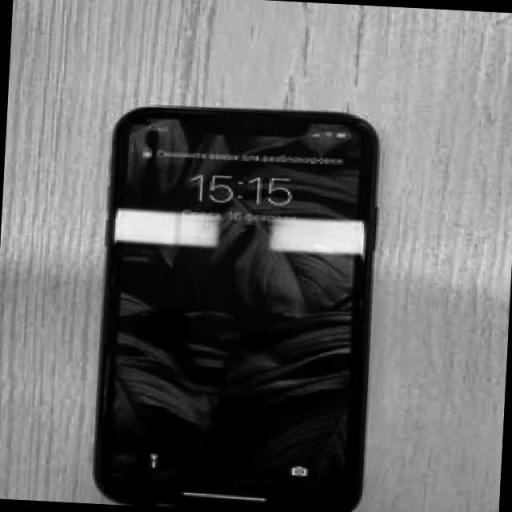phone: (93, 105, 385, 510)
